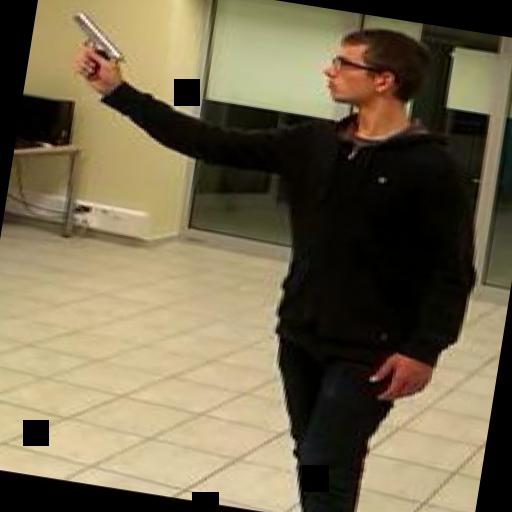Handgun: (54, 4, 136, 84)
